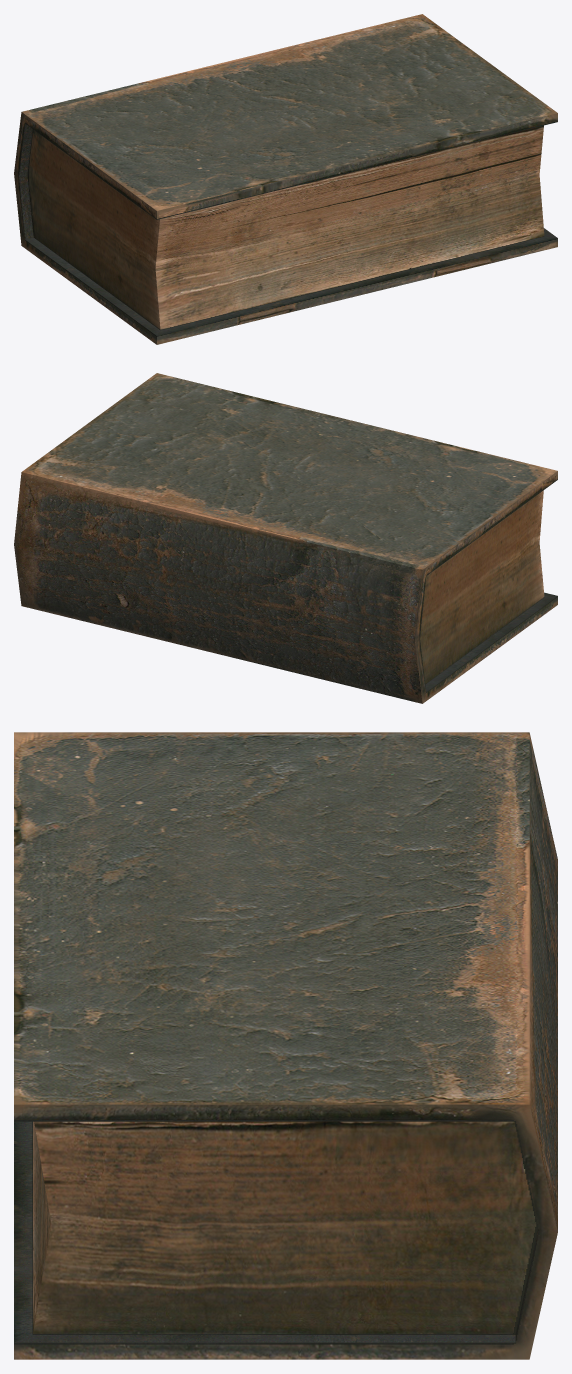
The model's file is old-book.obj.
3 views of the same model, one above another, from view 1: azimuth 30°, elevation 25°; view 2: azimuth 150°, elevation 25°; view 3: azimuth 270°, elevation 25° (orthographic). The views are drawn at different scales.
Parts seen in each view (by area): view 1: Old_Bible; view 2: Old_Bible; view 3: Old_Bible.
Boxes of the visible parts, left/top/right/bottom form: Old_Bible: left=14, top=14, right=557, bottom=344; Old_Bible: left=14, top=373, right=557, bottom=703; Old_Bible: left=14, top=732, right=557, bottom=1359.
Size of the model in its own units: 2.35 by 0.75 by 1.45.
1 material, 1 textured.
